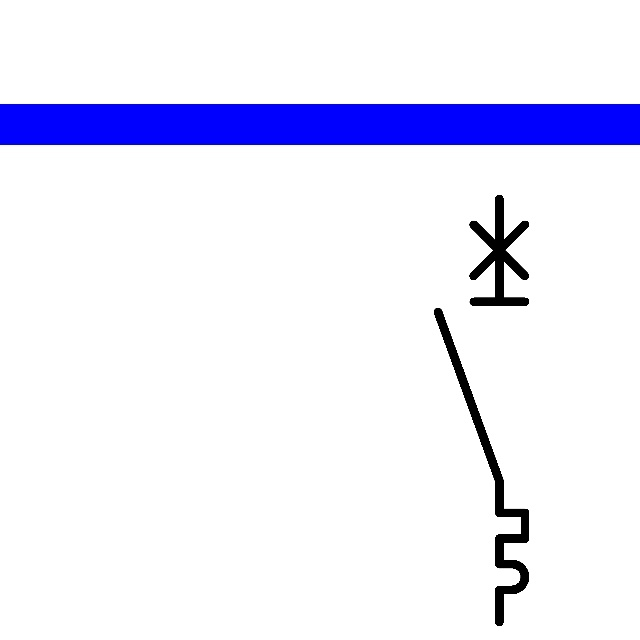interruptor_termomagnetico: (427, 188, 536, 633)
